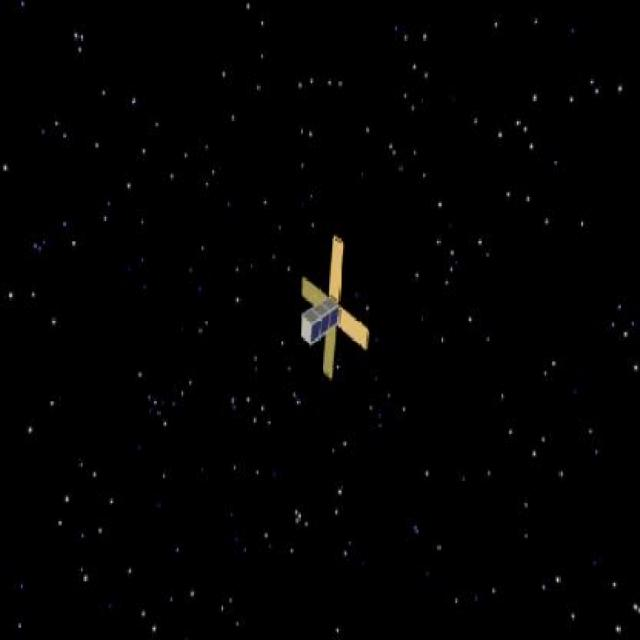medium_debris: (288, 232, 379, 382)
